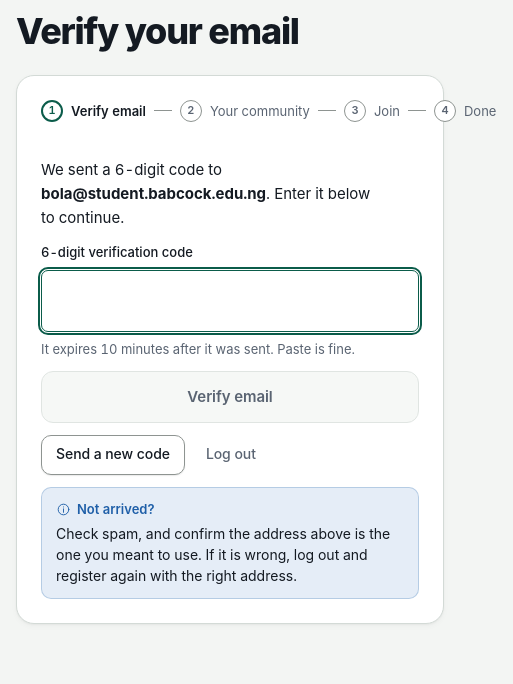
Test case: verify email › distinguishes an expired code from an incorrect one
This screenshot has width=513, height=684.
In the field labelled "6-digit verification code": [230, 301] box [41, 270, 419, 332], type "482917"
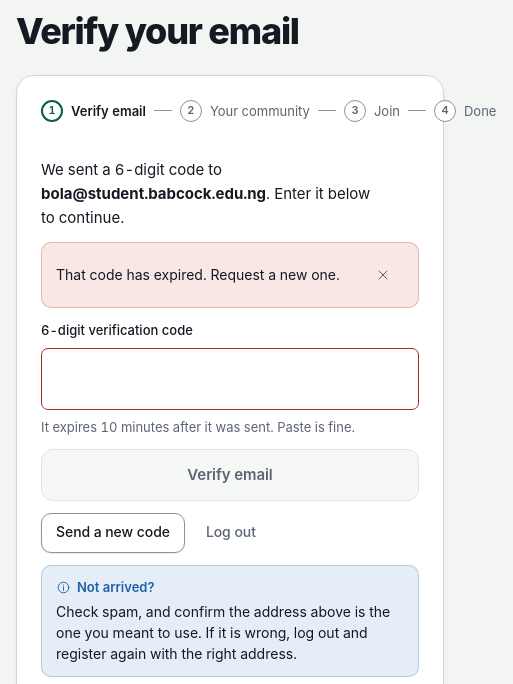
Check: the button "Send a new code" is enabled, box [41, 513, 185, 553]
Check: the text "That code has expired. Request a new one." is shown, box [56, 264, 340, 285]
